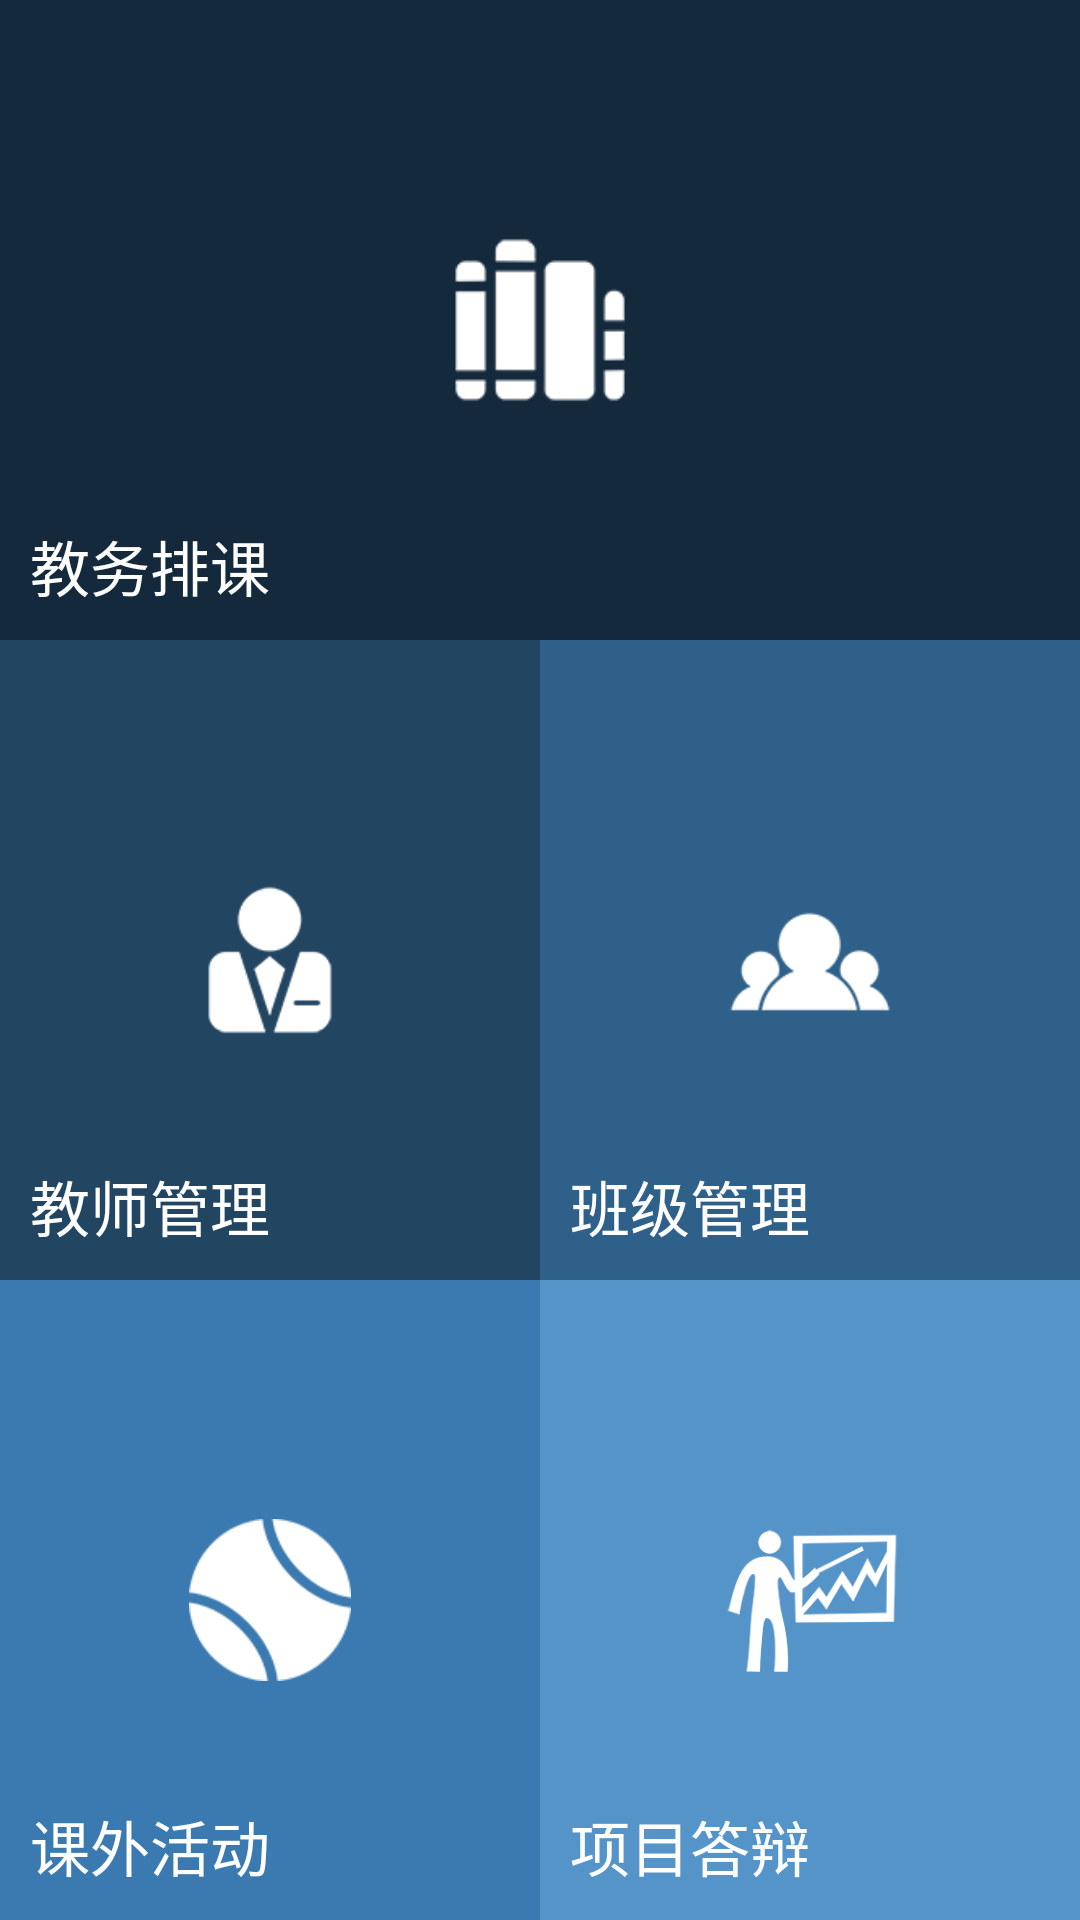

Icon click points for this 1080*1920 phone screenshot, format point (x, y):
activity: point (270, 1600)
classes: point (810, 962)
dabian: point (812, 1601)
kebiao: point (540, 320)
teacher: point (270, 960)
